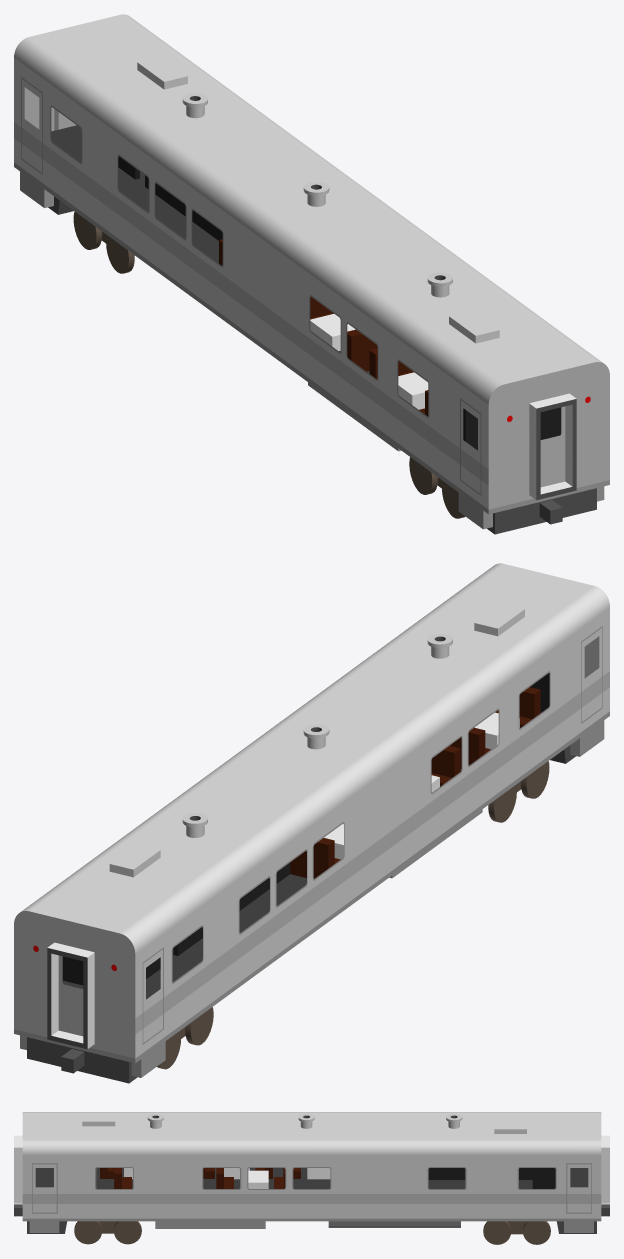
Rendered from diner-car.glb.
3 views of the same model, one above another, from view 1: azimuth 30°, elevation 25°; view 2: azimuth 150°, elevation 25°; view 3: azimuth 270°, elevation 25° (orthographic). The views are drawn at different scales.
Visible parts, largest first — view 1: group_25, Box (×4), group_2_1, group_4_1; view 2: group_25, Box (×4), group_2_1; view 3: group_25, Box (×5), group_3_1, group_5_1, group_3, group_5.
Boxes of the visible parts, x1,y1,x2,y2 form: group_25: [14, 14, 609, 534]; Box (×4): [51, 125, 428, 409]; group_2_1: [106, 235, 134, 273]; group_4_1: [73, 211, 102, 249]; group_25: [14, 563, 609, 1083]; Box (×4): [62, 678, 584, 999]; group_2_1: [185, 1007, 213, 1045]; group_25: [14, 1112, 609, 1233]; Box (×5): [35, 1168, 588, 1188]; group_3_1: [483, 1221, 511, 1244]; group_5_1: [523, 1221, 550, 1244]; group_3: [74, 1221, 102, 1244]; group_5: [114, 1221, 141, 1244].
Size of the model in its own units: 3.02 by 4.5 by 21.08.
